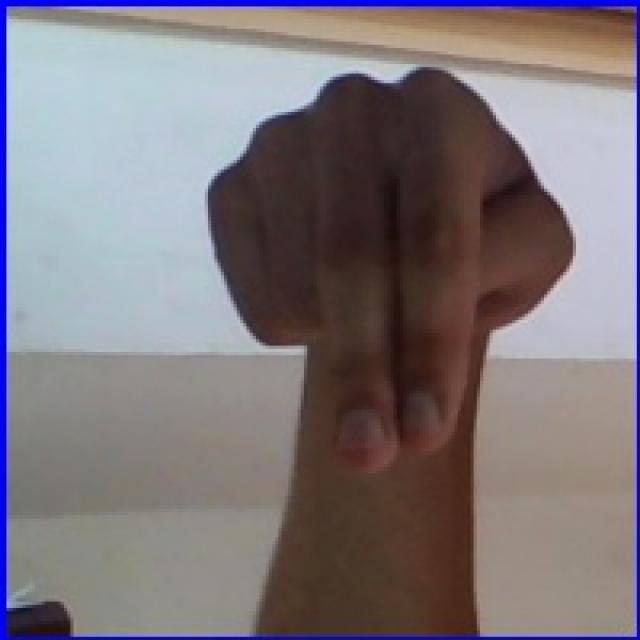Letra-N: (165, 42, 606, 505)
